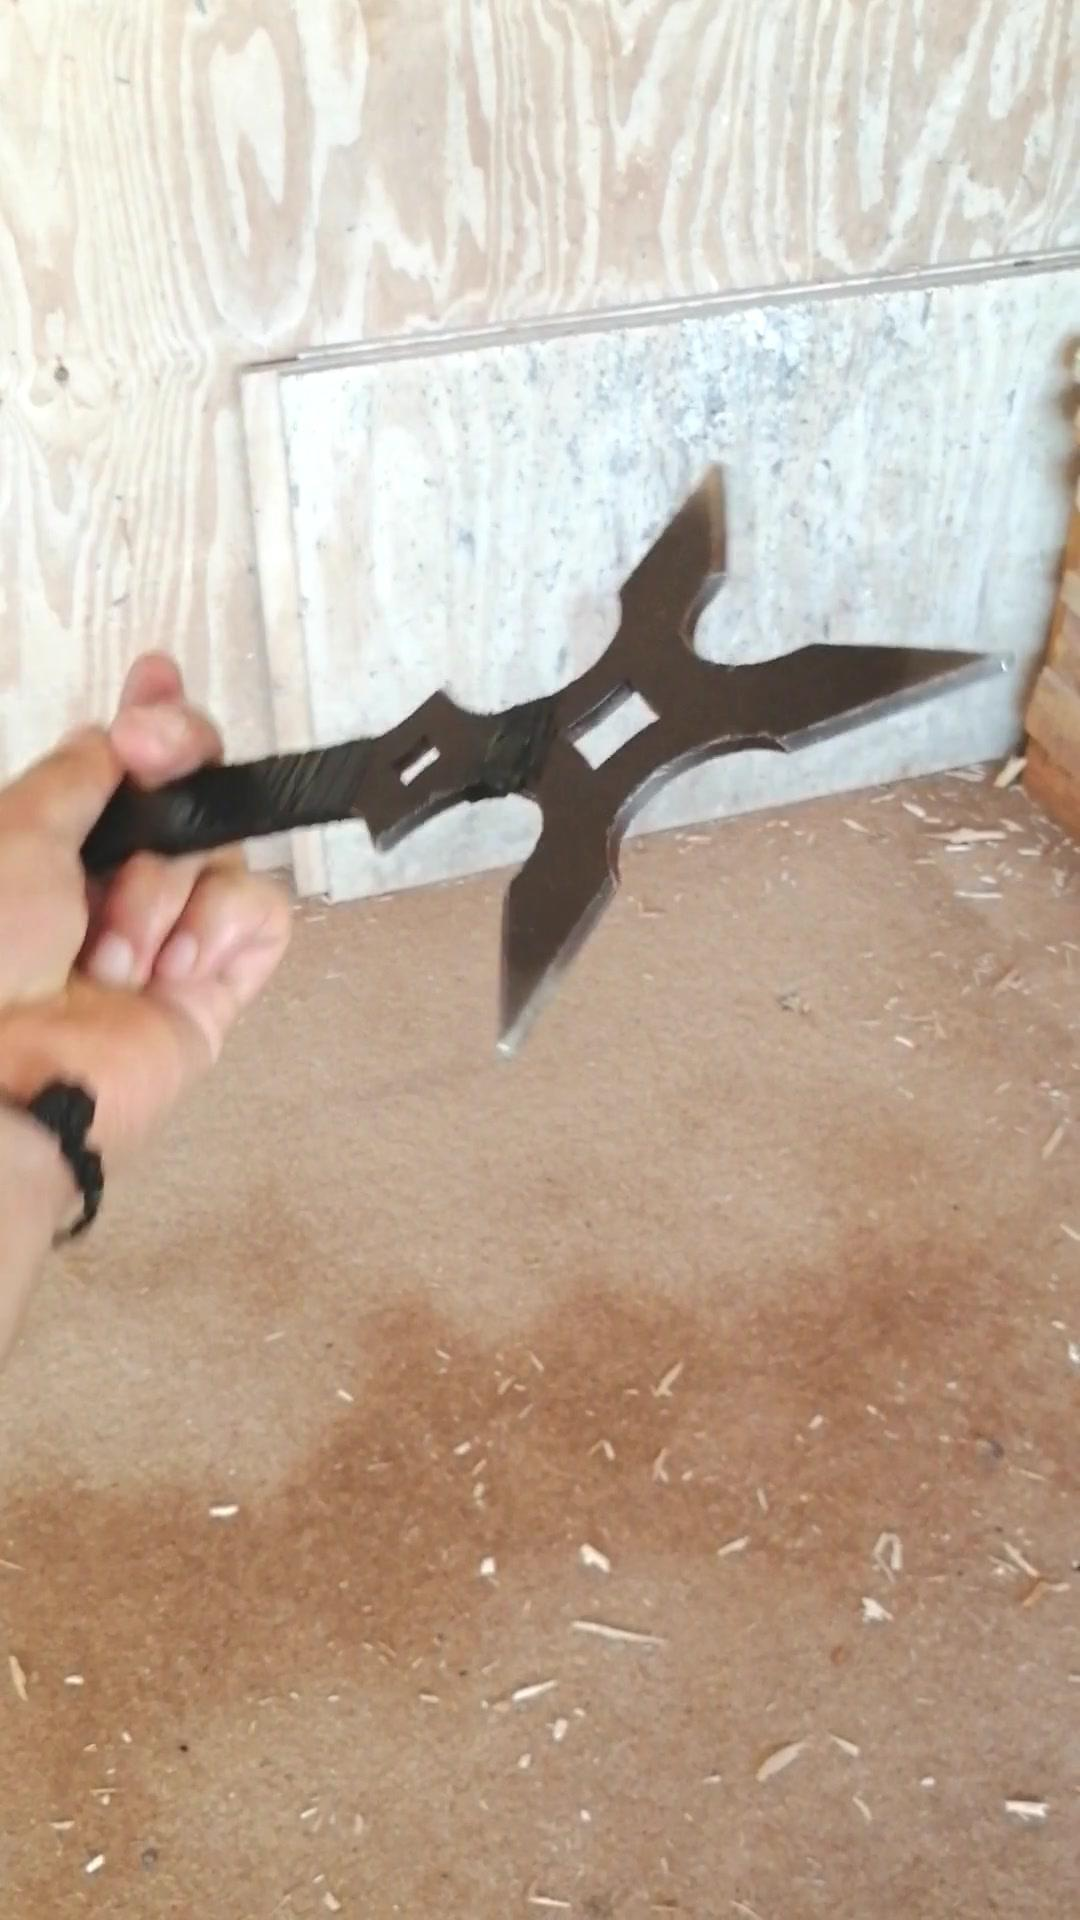Hand Axe: (51, 435, 1013, 1067)
